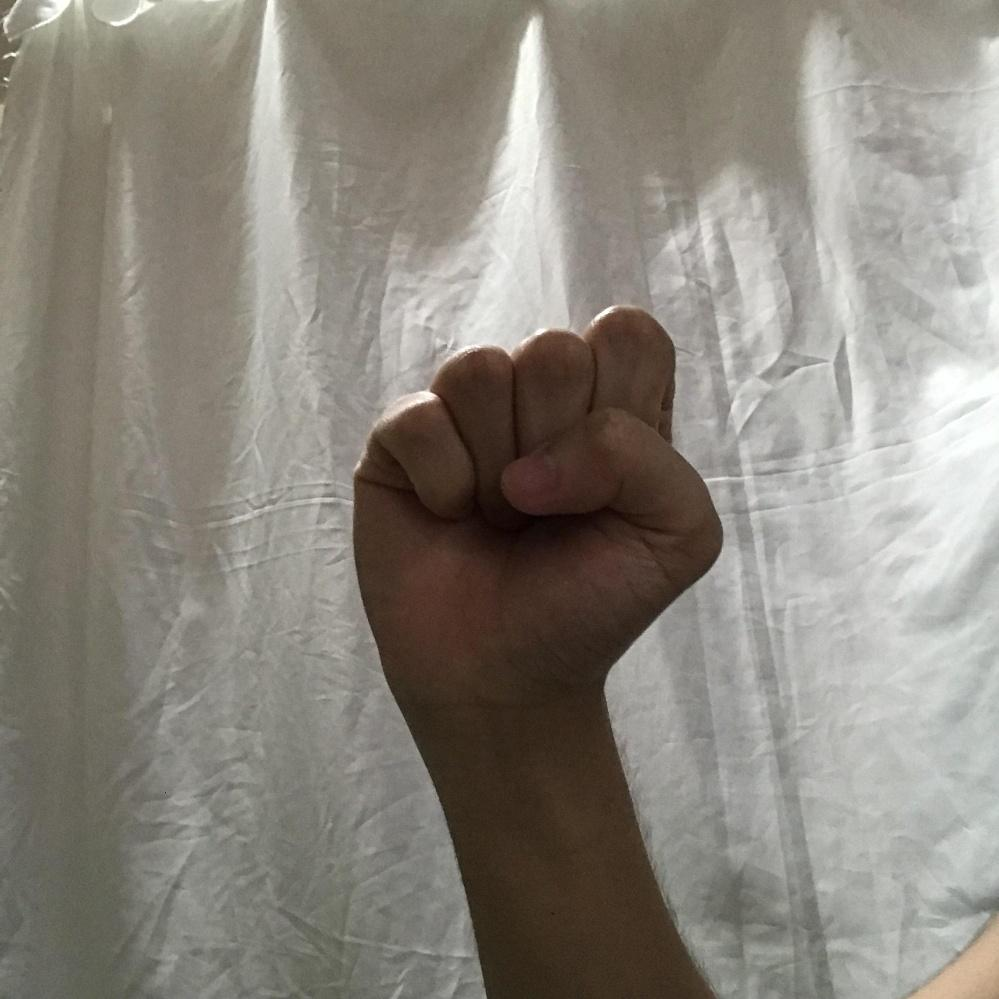s: (351, 299, 722, 685)
